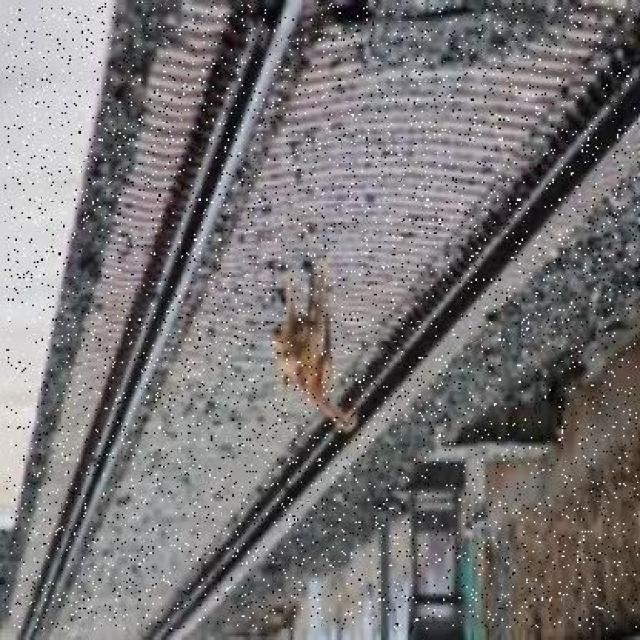rail: (6, 3, 639, 629)
